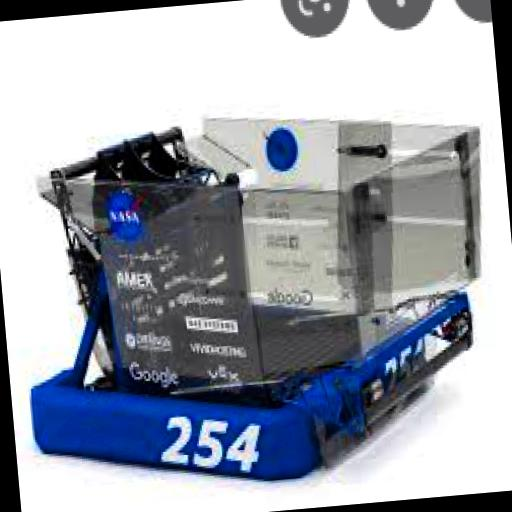robot: (8, 82, 506, 498)
